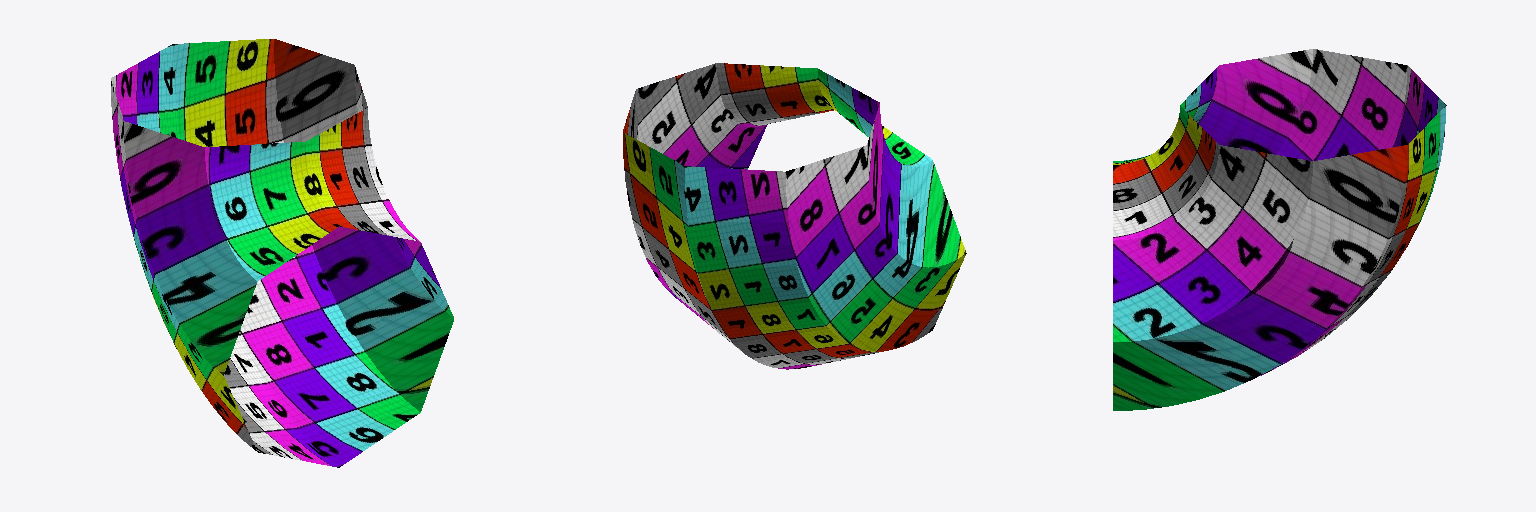
3 views of the same model, side by side, from view 1: azimuth 30°, elevation 25°; view 2: azimuth 150°, elevation 25°; view 3: azimuth 270°, elevation 25° (orthographic).
Parts seen in each view (by area): view 1: pipe; view 2: pipe; view 3: pipe.
Part boxes in pixels (left/top/right/bottom): pipe: left=111, top=39, right=453, bottom=467; pipe: left=623, top=63, right=966, bottom=369; pipe: left=1113, top=49, right=1446, bottom=410.
Bounding box in the file's own units: 0.12 × 0.15 × 0.15.
Materials: 1 (1 with a texture image).